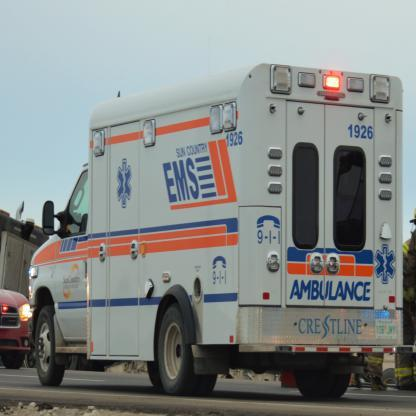ambulance_off: (29, 63, 402, 407)
